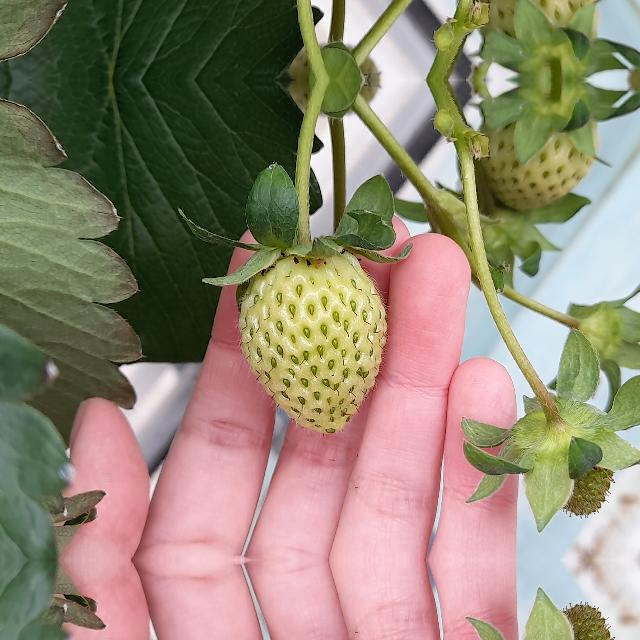Health_25: (238, 250, 386, 434), (476, 102, 600, 216), (475, 0, 600, 57)
